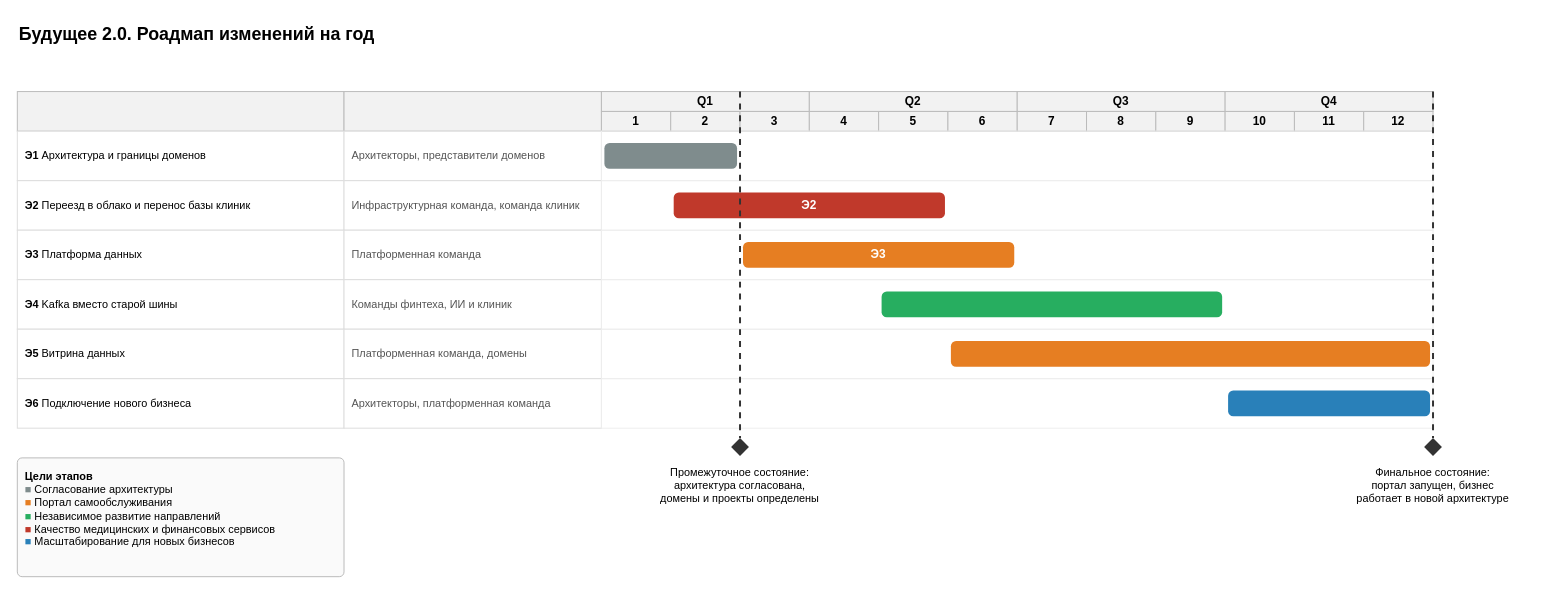
The diagram is 1559 pixels wide and 594 high, and some of its shapes have lost their labels. Here are the shapes that lost their labels. From the top down, the centre of each, then its label:
At [180,111]: "Этап".
At [472,111]: "Команды".
At [670,155]: "Э1".
At [1051,304]: "Э4".
At [1190,353]: "Э5".
At [1329,403]: "Э6".
